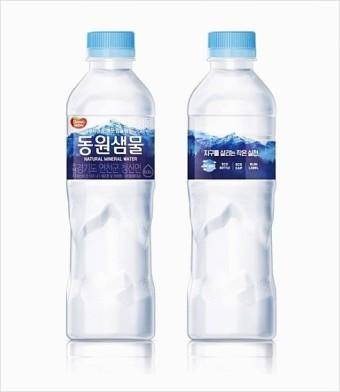plastic_bottle: (178, 29, 282, 345), (61, 29, 159, 344)
